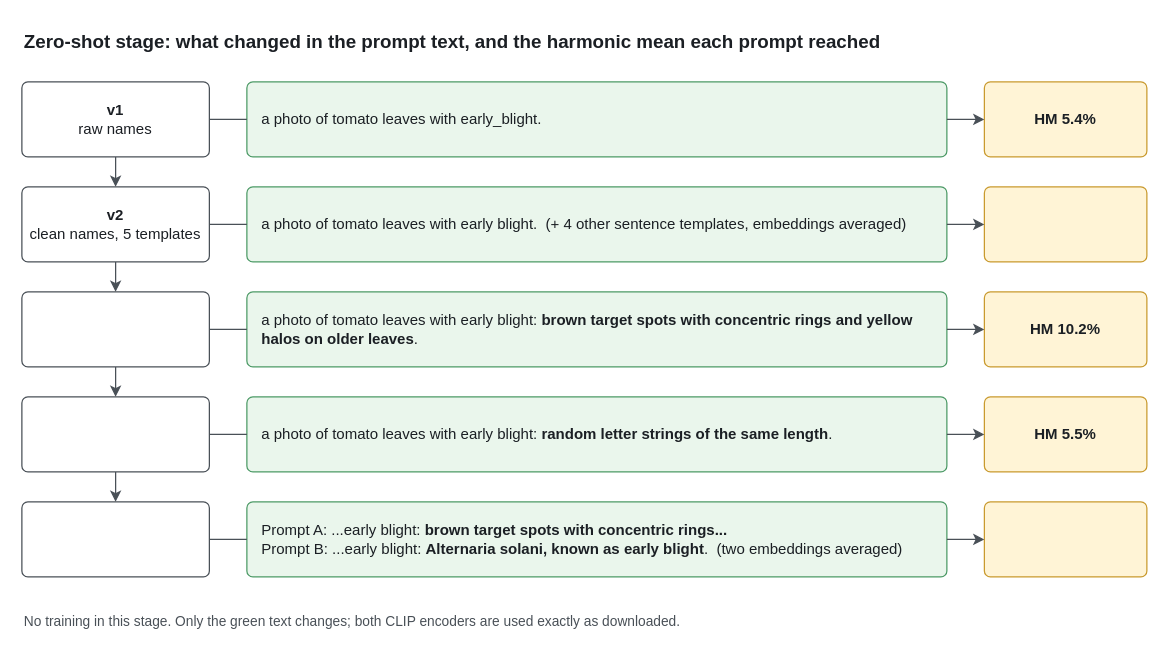
This 1169x658 diagram has some shape labels left out. Each missing label, with the box of its shape:
HM 11.9%: (983, 501, 1147, 577)
HM 5.6%: (983, 186, 1147, 262)
v3 symptom description: (21, 291, 209, 367)
v3.1 control: random text: (21, 396, 209, 472)
v3.6 two separate prompts: (21, 501, 209, 577)
